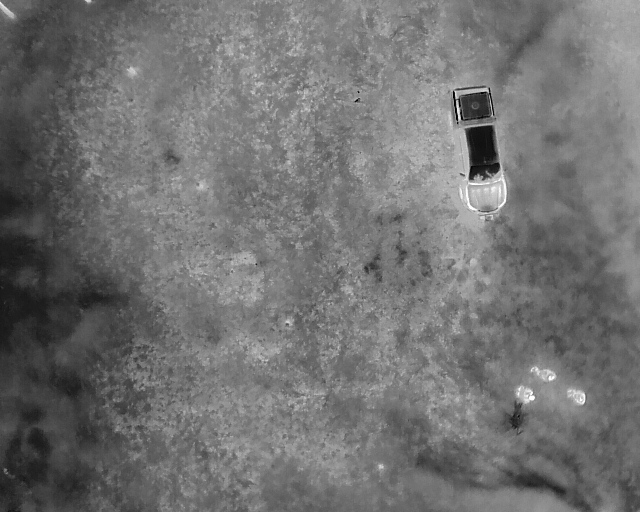car: (292, 179, 299, 188), (349, 277, 356, 284)
person: (347, 278, 351, 285), (347, 269, 350, 277), (294, 186, 297, 193), (350, 271, 353, 277)
